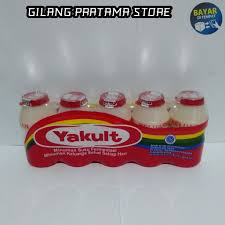Yakult (325ml): (11, 87, 211, 173)
